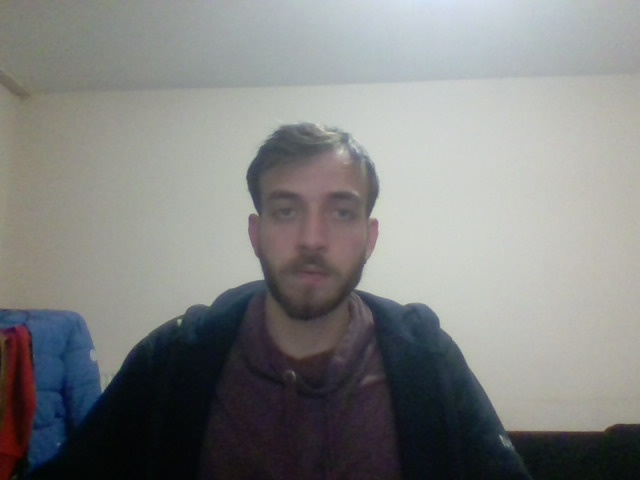awake: (240, 118, 386, 331)
lefteye: (262, 190, 311, 228)
openedeye: (261, 190, 366, 231)
righteye: (322, 190, 364, 226)
